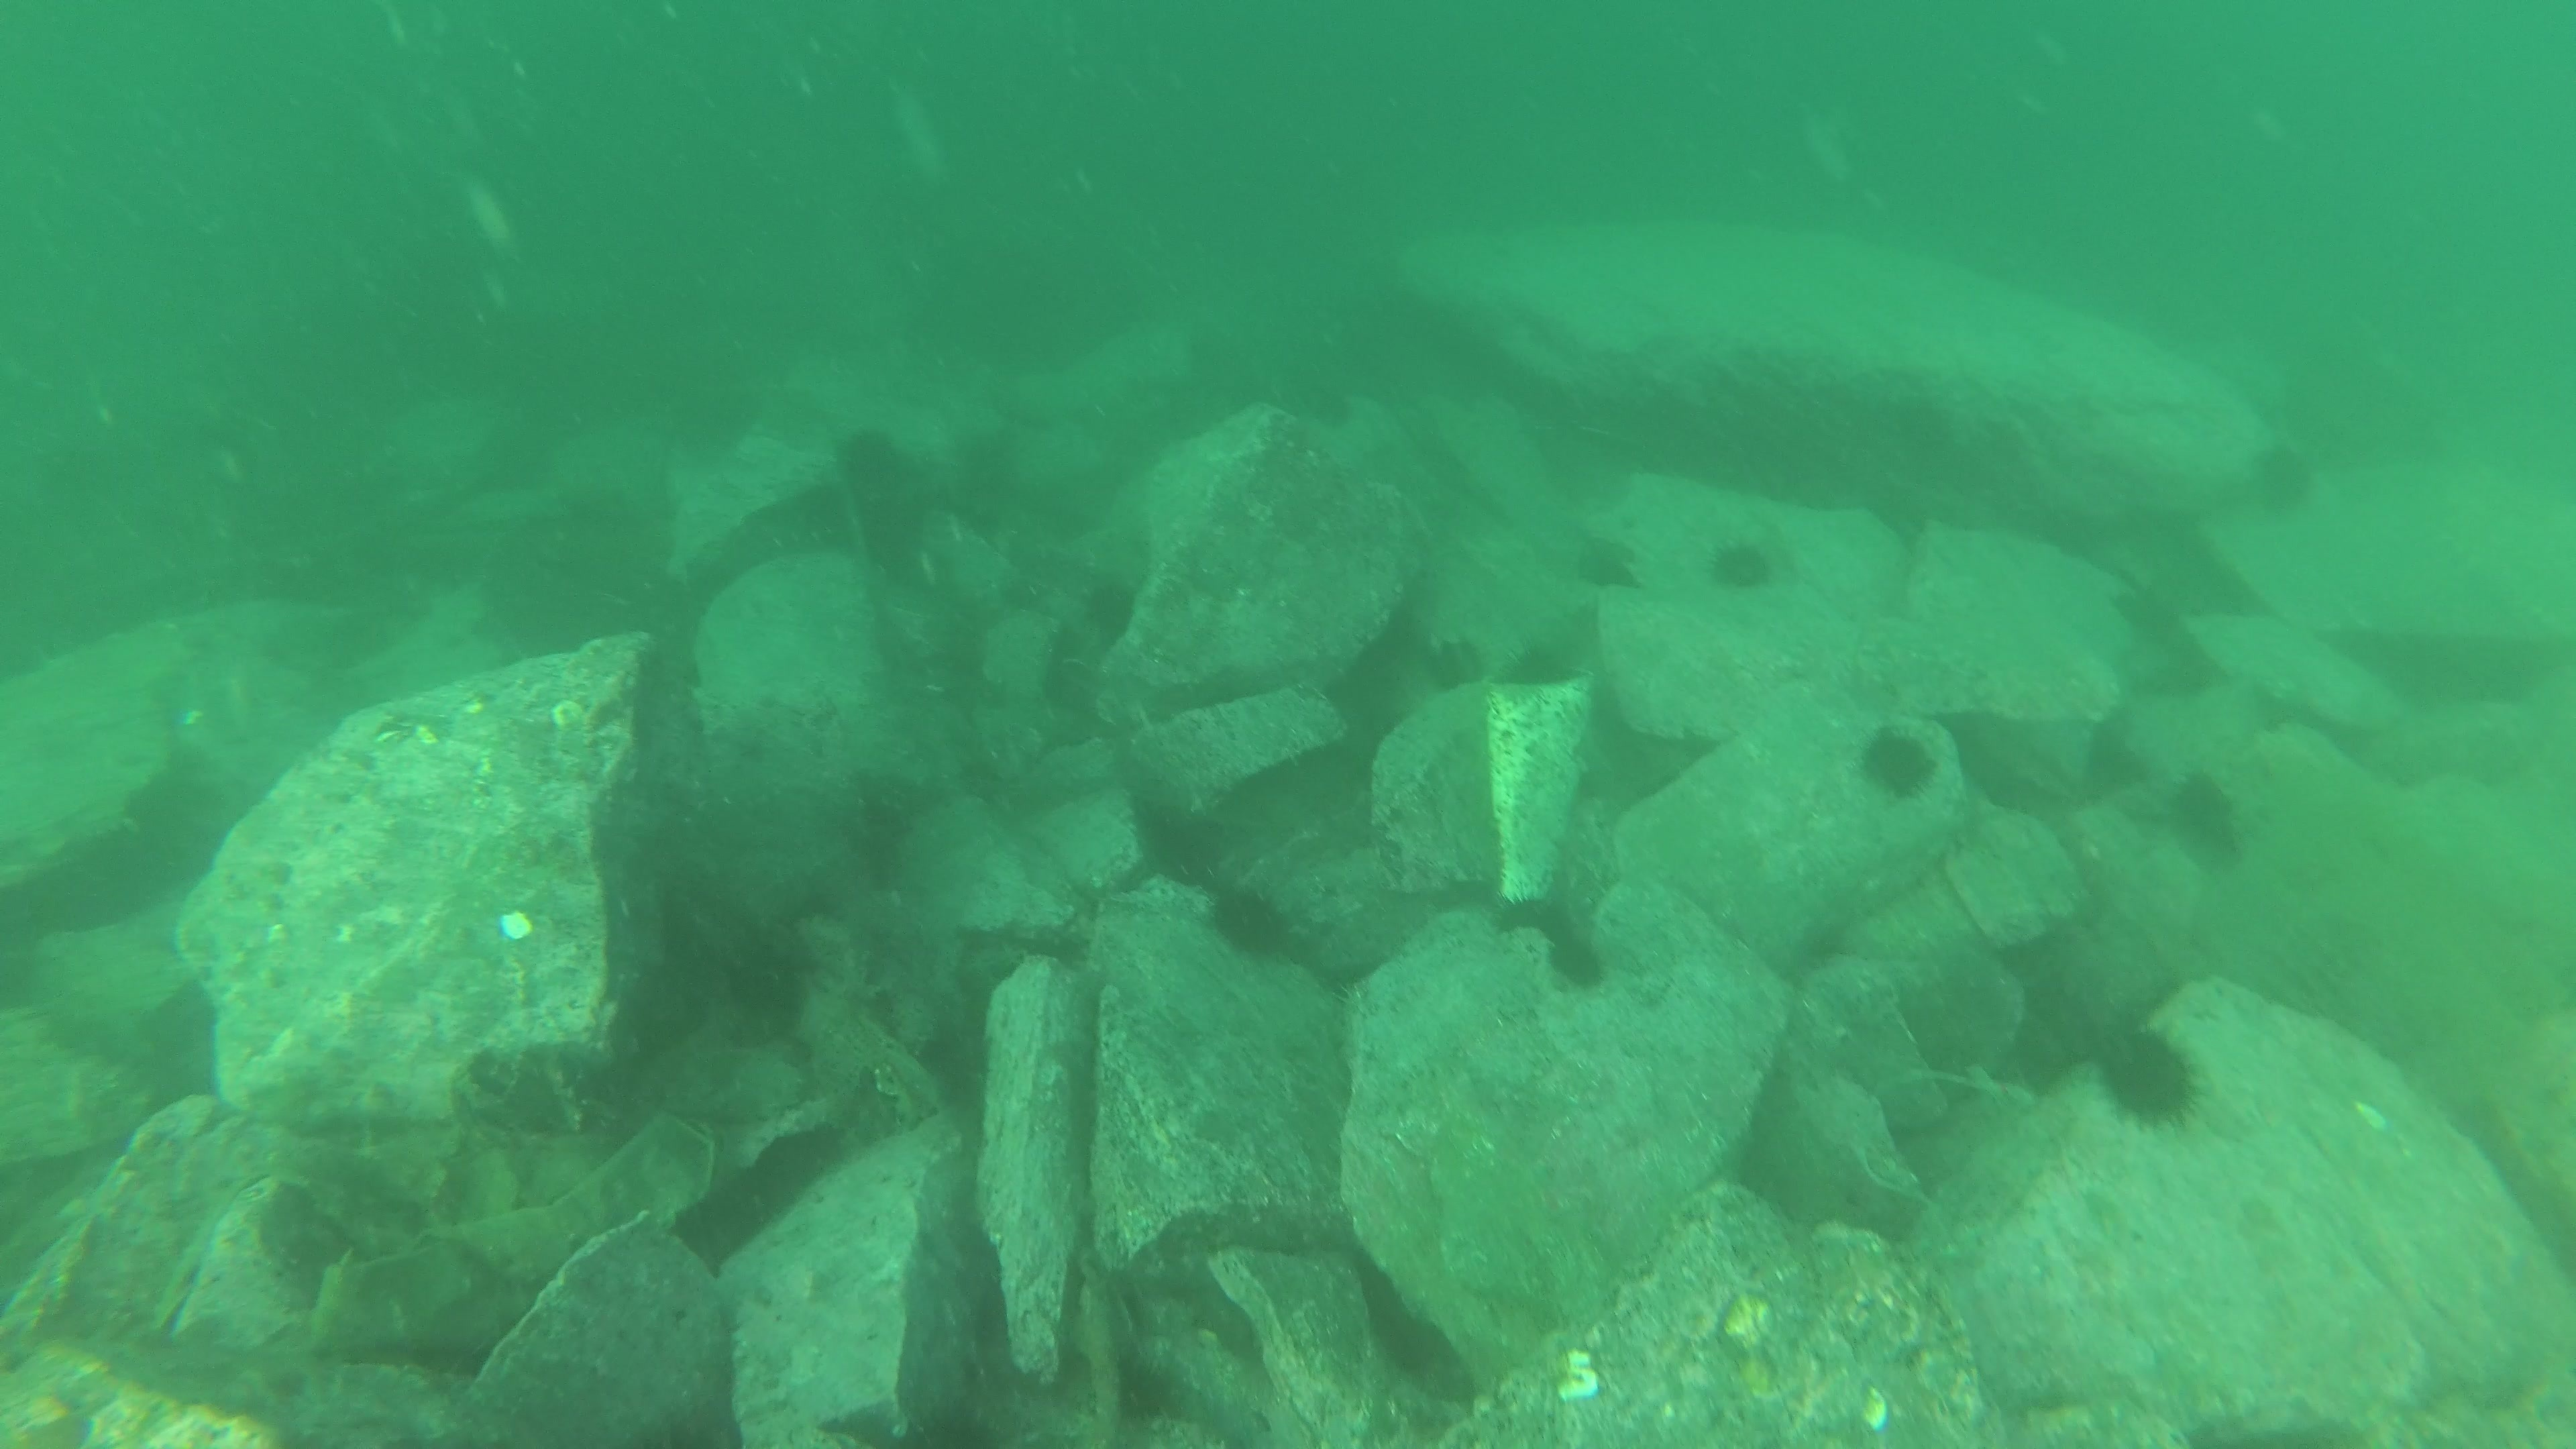echinus: (2091, 1023, 2208, 1132), (2160, 766, 2250, 869), (1201, 876, 1297, 964), (1852, 718, 1943, 805), (828, 421, 916, 504), (2242, 435, 2323, 522), (1702, 529, 1783, 598), (1493, 885, 1576, 950)
